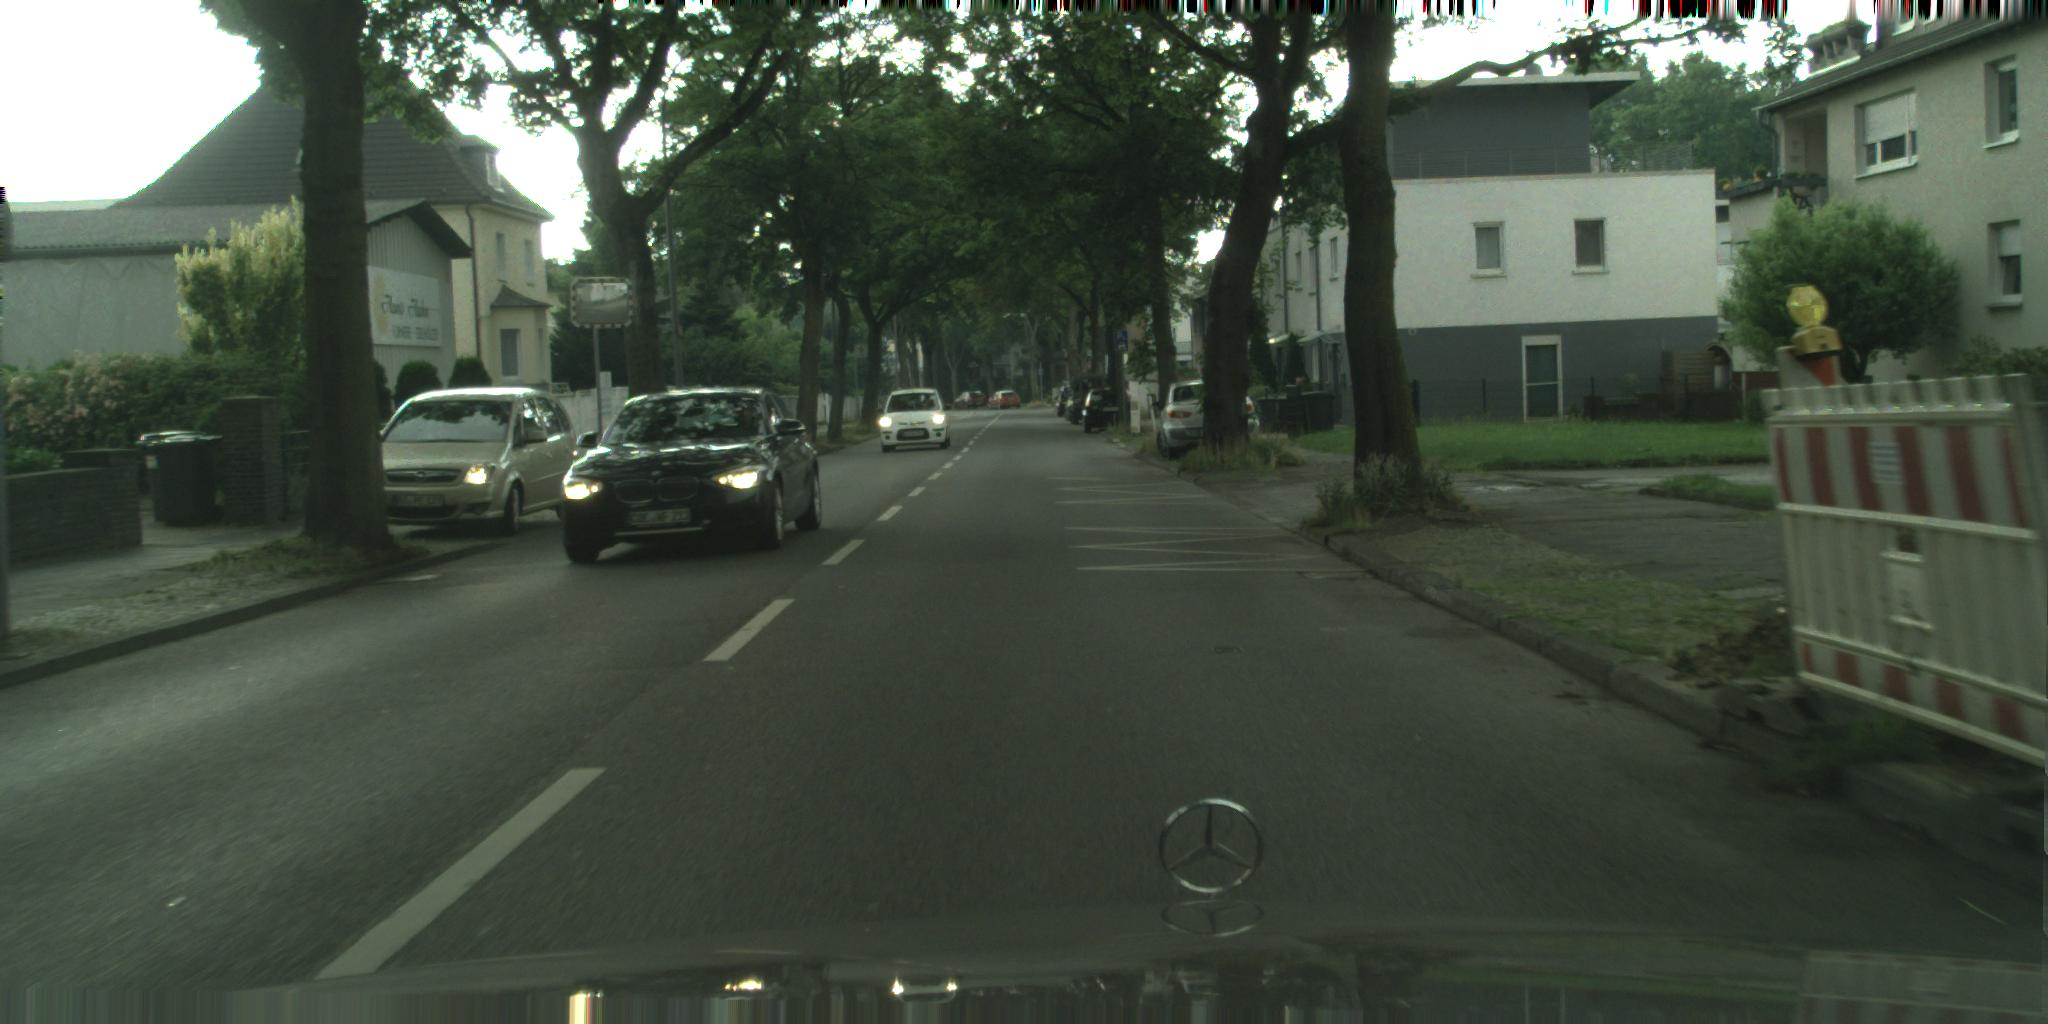car: (560, 387, 823, 566), (357, 385, 601, 539), (1151, 376, 1267, 461), (876, 388, 953, 453), (1064, 374, 1117, 426), (1080, 388, 1138, 434), (1055, 388, 1085, 417), (953, 391, 987, 410), (989, 391, 1021, 410), (1063, 391, 1083, 423)
